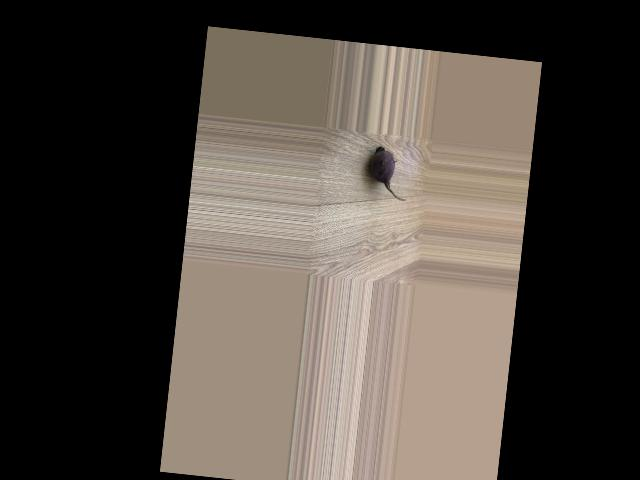beet: (366, 146, 411, 202)
